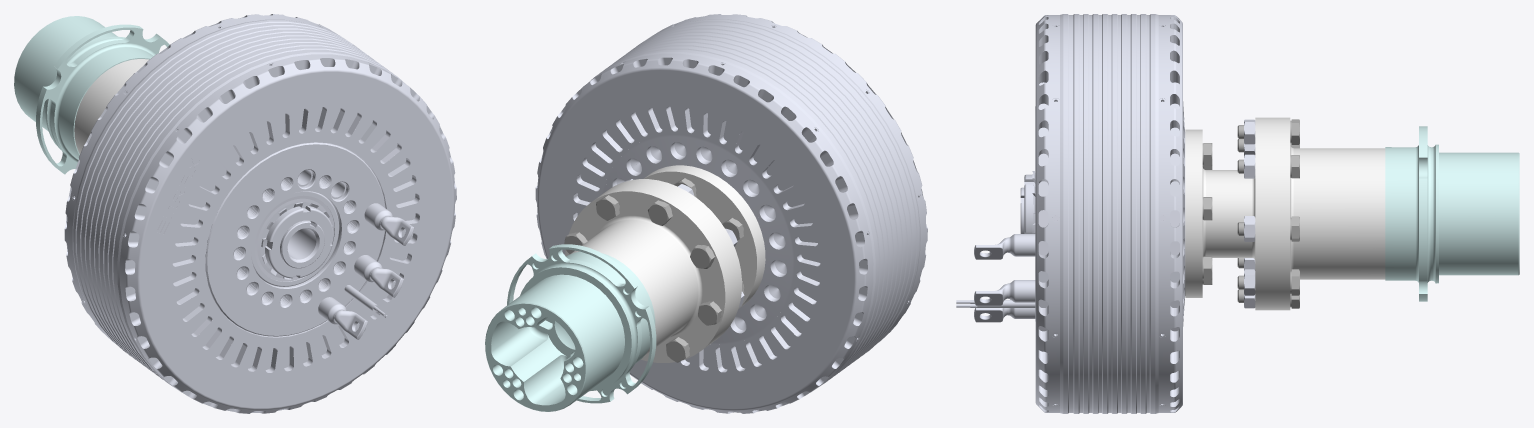
Rendered from flange.glb.
3 views of the same model, side by side, from view 1: azimuth 30°, elevation 25°; view 2: azimuth 150°, elevation 25°; view 3: azimuth 270°, elevation 25° (orthographic). The views are drawn at different scales.
Visible parts, largest first — view 1: rotor_228LC.step-1, stator_228CC_LC_1UVW.step-1, 25 Rear Hub (Shortened)-1, phase connector_228HVMV_1UVW.step-1, 3206.step-1, KM_6.step-1, 零件7-1, shaft_standard_208_228.step-1; view 2: rotor_228LC.step-1, 25 Rear Hub (Shortened)-1, 零件7-1, 零件6-1, hexagonal_head_bolt_M8x30.step-8, hexagonal_head_bolt_M8x30.step-1, hexagonal_head_bolt_M8x30.step-2, hexagonal_head_bolt_M8x30.step-3, hexagonal_head_bolt_M8x30.step-7; view 3: rotor_228LC.step-1, 25 Rear Hub (Shortened)-1, 零件7-1, 零件6-1, phase connector_228HVMV_1UVW.step-1, stator_228CC_LC_1UVW.step-1, KM_6.step-1.
Part boxes in pixels (x1,y1,x2,y2): rotor_228LC.step-1: (64,14,456,413); stator_228CC_LC_1UVW.step-1: (205,142,388,336); 25 Rear Hub (Shortened)-1: (14,16,169,174); phase connector_228HVMV_1UVW.step-1: (318,203,413,339); 3206.step-1: (251,191,339,286); KM_6.step-1: (265,206,333,278); 零件7-1: (74,59,148,153); shaft_standard_208_228.step-1: (280,220,324,268); rotor_228LC.step-1: (535,14,927,413); 25 Rear Hub (Shortened)-1: (485,244,656,411); 零件7-1: (565,185,733,362); 零件6-1: (600,165,765,343); hexagonal_head_bolt_M8x30.step-8: (698,301,721,325); hexagonal_head_bolt_M8x30.step-1: (690,245,714,268); hexagonal_head_bolt_M8x30.step-2: (648,200,672,225); hexagonal_head_bolt_M8x30.step-3: (596,195,619,220); hexagonal_head_bolt_M8x30.step-7: (666,337,689,362); rotor_228LC.step-1: (1035,14,1185,413); 25 Rear Hub (Shortened)-1: (1385,126,1519,301); 零件7-1: (1273,117,1385,310); 零件6-1: (1185,117,1272,310); phase connector_228HVMV_1UVW.step-1: (974,234,1035,322); stator_228CC_LC_1UVW.step-1: (956,106,1035,321); KM_6.step-1: (1024,174,1035,233).
Size of the model in its own units: 0.2277 by 0.2277 by 0.3211.
